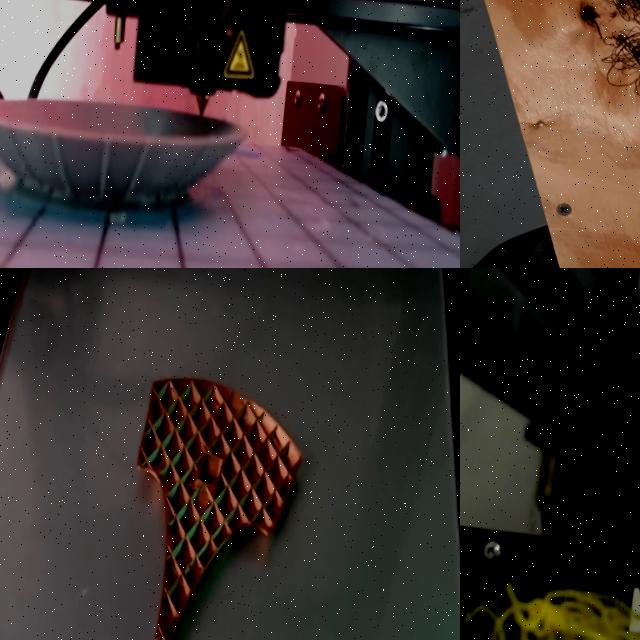spaghetti: (531, 0, 640, 147), (460, 581, 640, 640)
